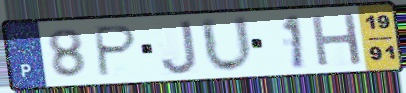1: (278, 13, 310, 70)
8: (44, 27, 88, 79)
H: (308, 11, 365, 69)
J: (159, 18, 200, 76)
P: (94, 23, 140, 79)
U: (197, 14, 257, 76)
